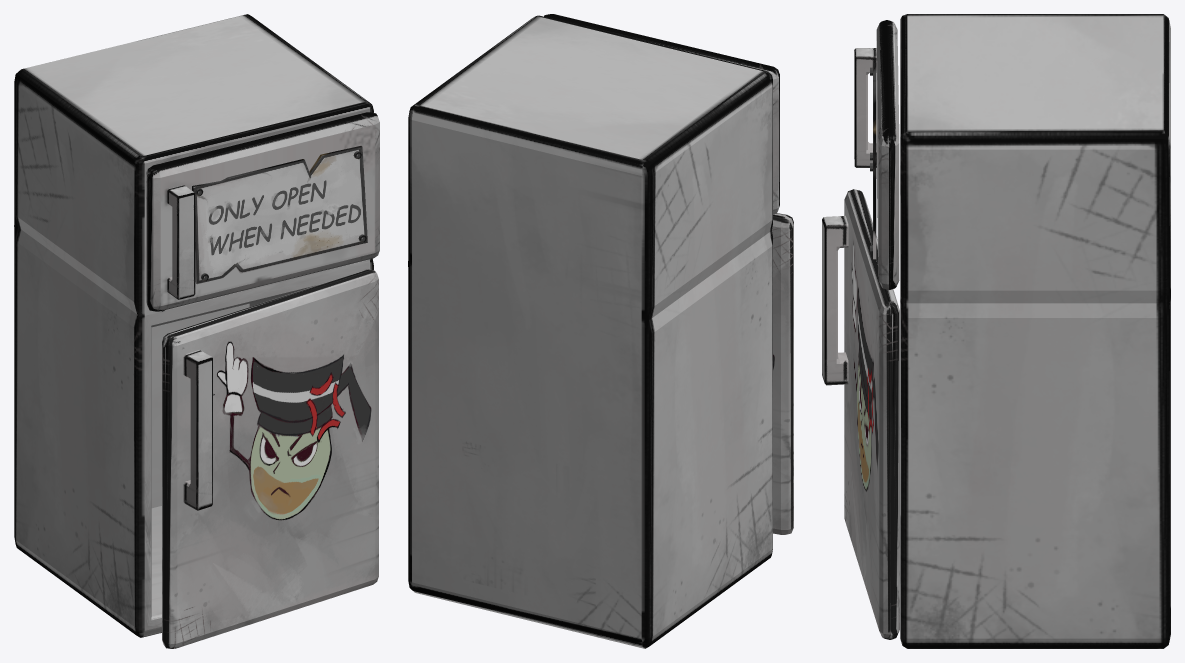
File: Fridge Tippy.glb
3 views of the same model, side by side, from view 1: azimuth 30°, elevation 25°; view 2: azimuth 150°, elevation 25°; view 3: azimuth 270°, elevation 25° (orthographic). The views are drawn at different scales.
Parts seen in each view (by area): view 1: Fridge, Door fridge 2, Door fridge 1; view 2: Fridge, Door fridge 2, Door fridge 1; view 3: Fridge, Door fridge 2, Door fridge 1.
Boxes of the visible parts, x1,y1,x2,y2 form: Fridge: (14, 14, 373, 637); Door fridge 2: (162, 269, 378, 648); Door fridge 1: (146, 112, 379, 311); Fridge: (408, 15, 772, 648); Door fridge 2: (772, 213, 793, 534); Door fridge 1: (544, 14, 779, 214); Fridge: (900, 14, 1170, 648); Door fridge 2: (822, 189, 899, 639); Door fridge 1: (854, 20, 899, 289).
Bounding box in the file's own units: 12.44 × 23.9 × 14.63.
1 material, 1 textured.
